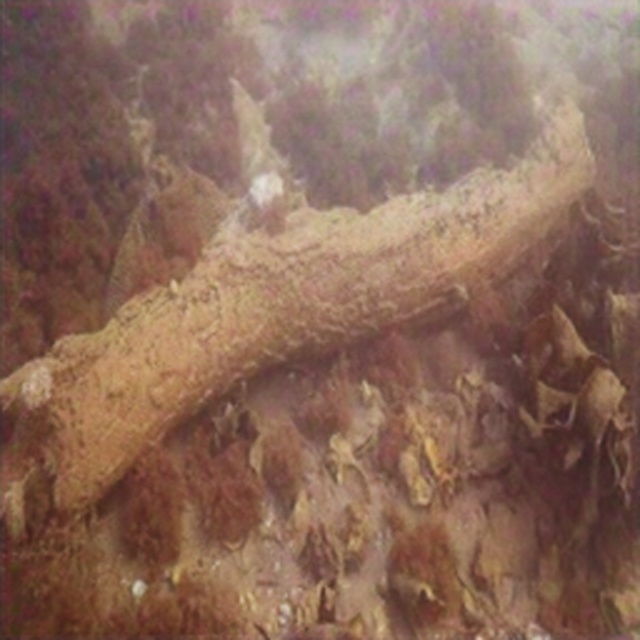mine: (369, 79, 466, 141)
